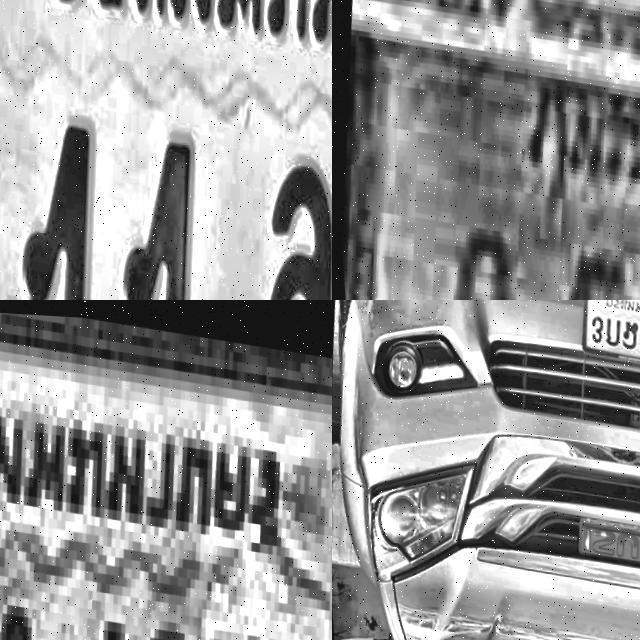license-plate: (0, 300, 332, 640), (0, 0, 332, 300), (332, 0, 640, 300), (573, 300, 640, 372)
